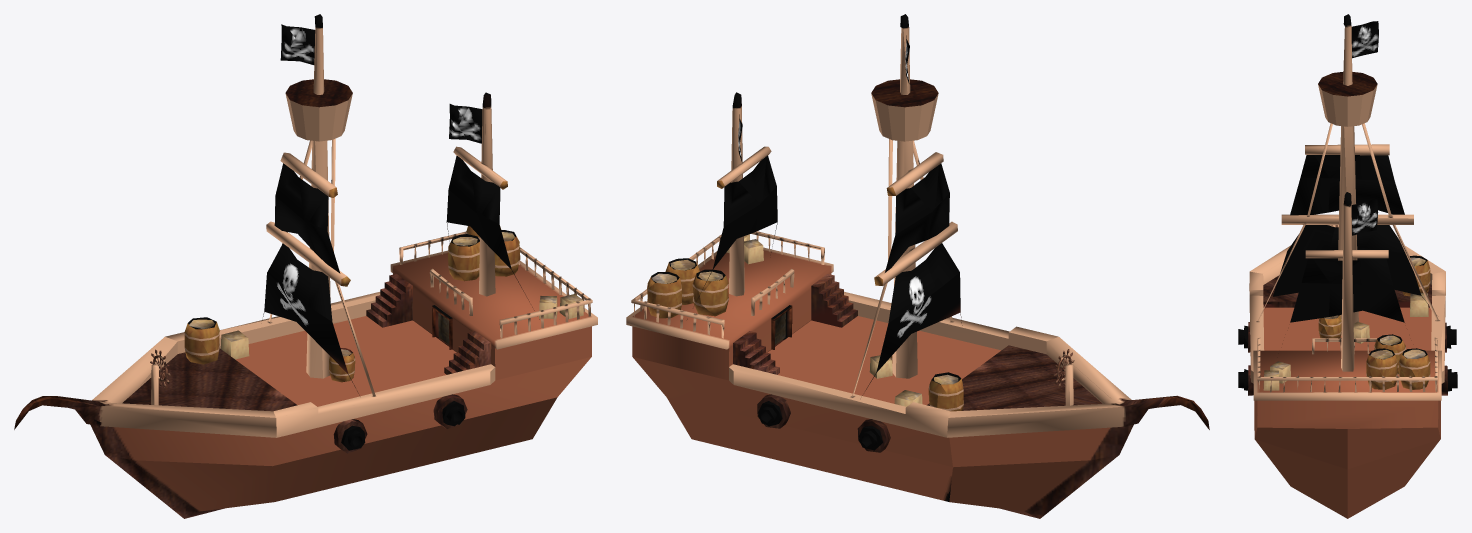
File: Pirateship.fbx
The picture shows the model from 3 angles, left to right: view 1: azimuth 30°, elevation 25°; view 2: azimuth 150°, elevation 25°; view 3: azimuth 270°, elevation 25°; orthographic projection. The views are drawn at different scales.
Parts seen in each view (by area): view 1: Cube; view 2: Cube; view 3: Cube.
Boxes of the visible parts, <box> form: Cube: <box>14,14,597,518</box>; Cube: <box>626,14,1209,518</box>; Cube: <box>1238,14,1457,518</box>.
Size of the model in its own units: 968 by 804 by 385.
